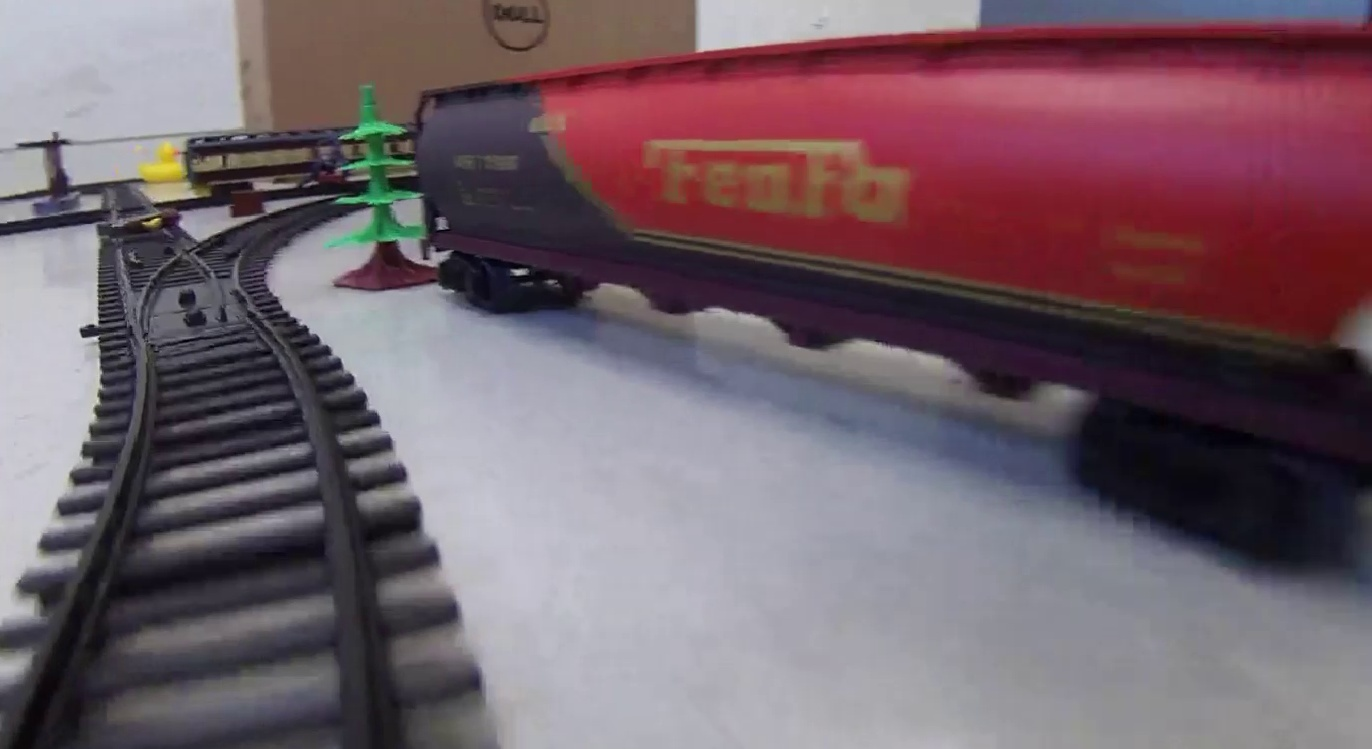tree: (329, 81, 423, 284)
